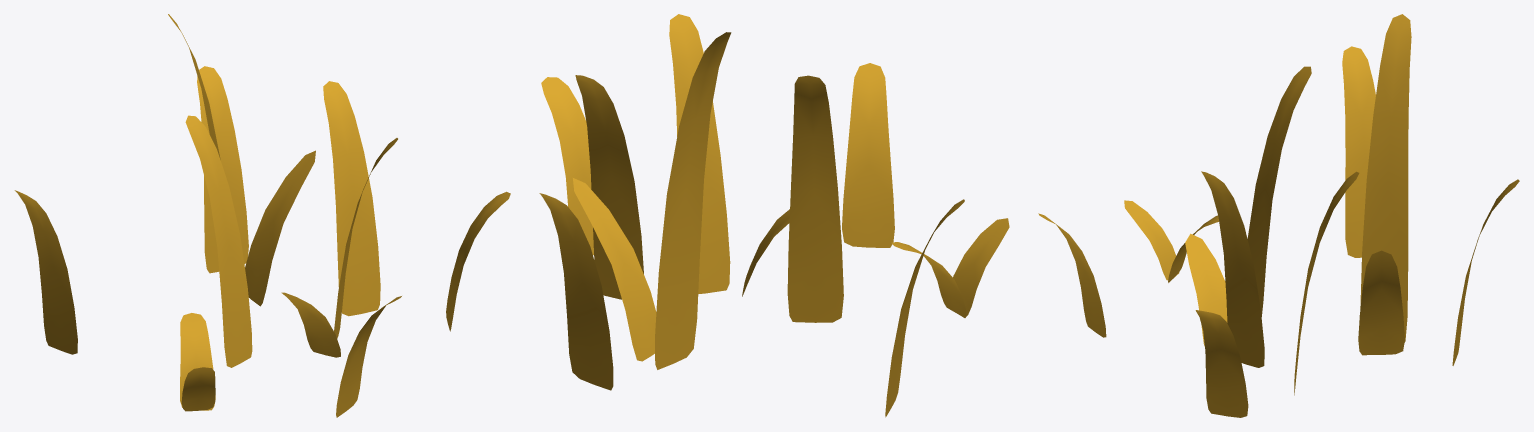
File: SM_B_Grass_01.fbx
3 renders of one model, left to right at view 1: azimuth 30°, elevation 25°; view 2: azimuth 150°, elevation 25°; view 3: azimuth 270°, elevation 25°, orthographic. The views are drawn at different scales.
Visible parts, largest first — view 1: SM_B_Grass_01; view 2: SM_B_Grass_01; view 3: SM_B_Grass_01.
Boxes of the visible parts, x1,y1,x2,y2 form: SM_B_Grass_01: [14, 14, 510, 417]; SM_B_Grass_01: [539, 14, 1009, 417]; SM_B_Grass_01: [1038, 14, 1519, 417].
Size of the model in its own units: 37.66 by 25.29 by 36.27.
